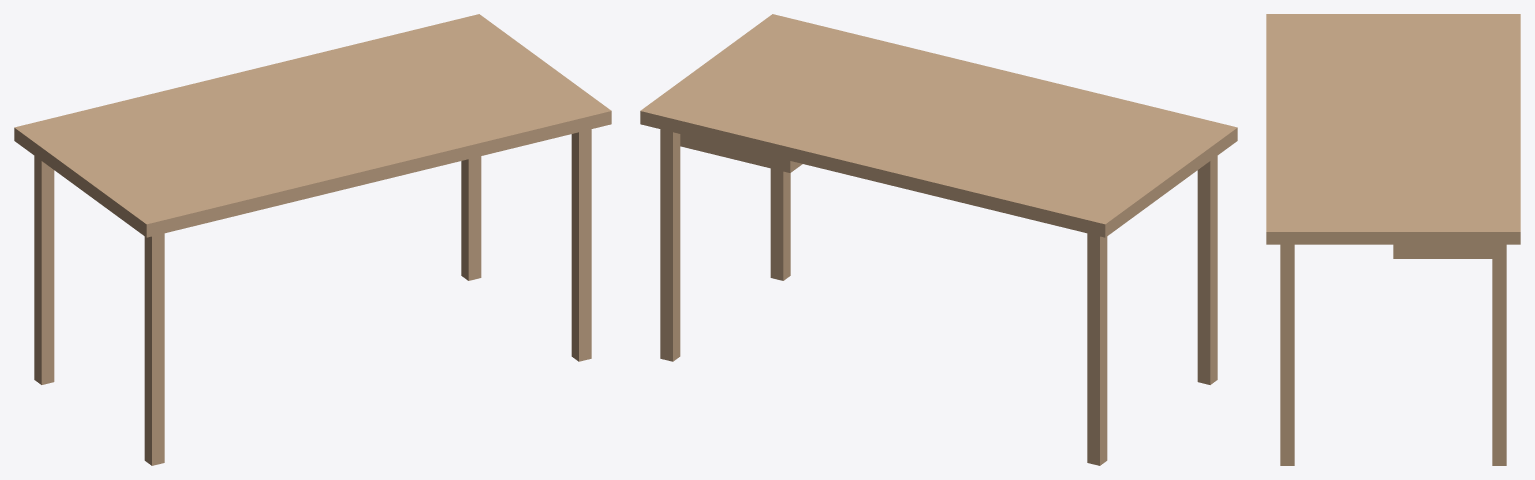
File: desk_02.glb
The picture shows the model from 3 angles, left to right: view 1: azimuth 30°, elevation 25°; view 2: azimuth 150°, elevation 25°; view 3: azimuth 270°, elevation 25°; orthographic projection. The views are drawn at different scales.
Size of the model in its own units: 1.46 by 0.75 by 0.72.
